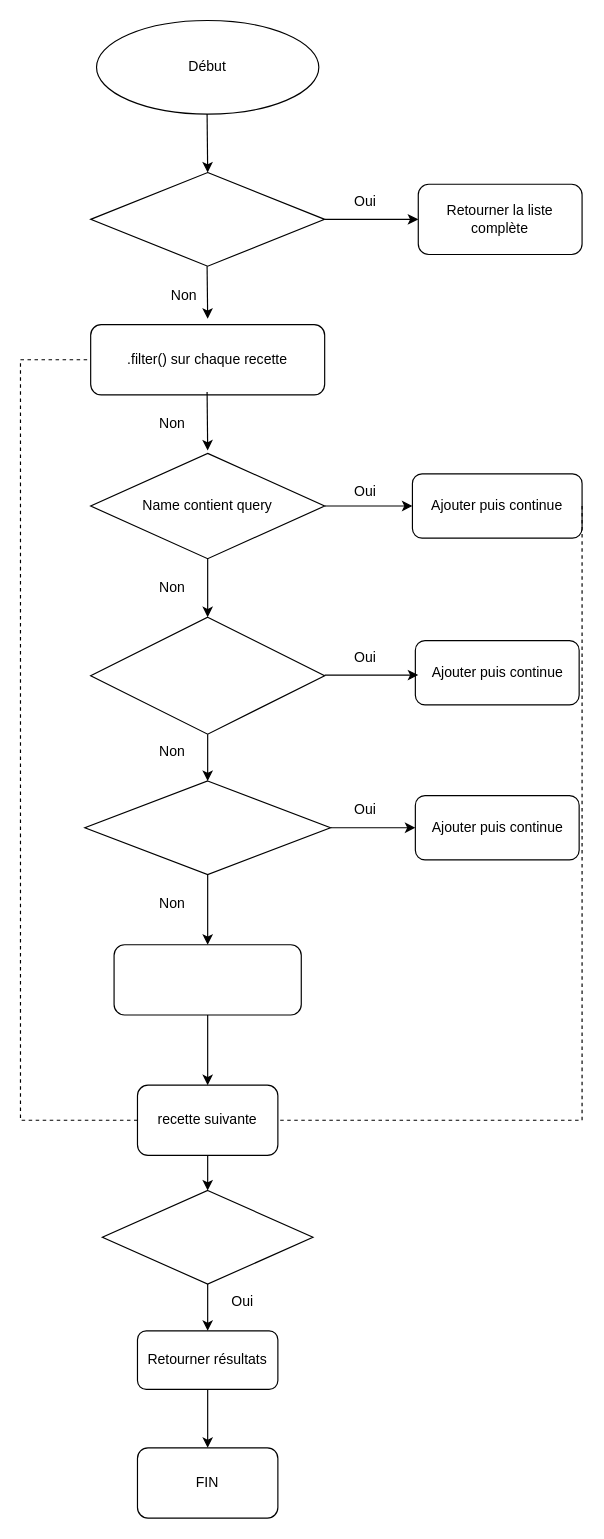
The diagram is 604 pixels wide and 1539 high, and some of its shapes have lost their labels. Each missing label, with the centre of its shape:
Description contient query: the point at 207,675
Ecarter recette: the point at 207,979
Ingrédients contient Query: the point at 207,827
Query < 3 characters: the point at 207,218
toutes les recette traitées ?: the point at 207,1236
